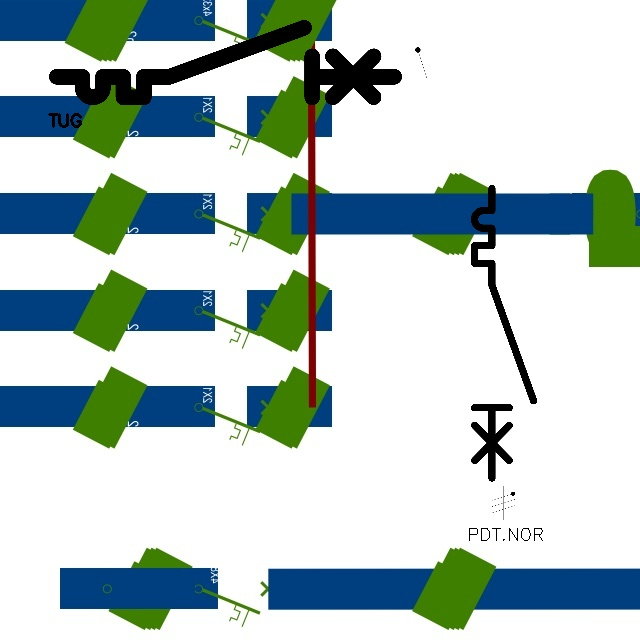interruptor_termomagnetico: (48, 19, 402, 106), (467, 181, 541, 486)
